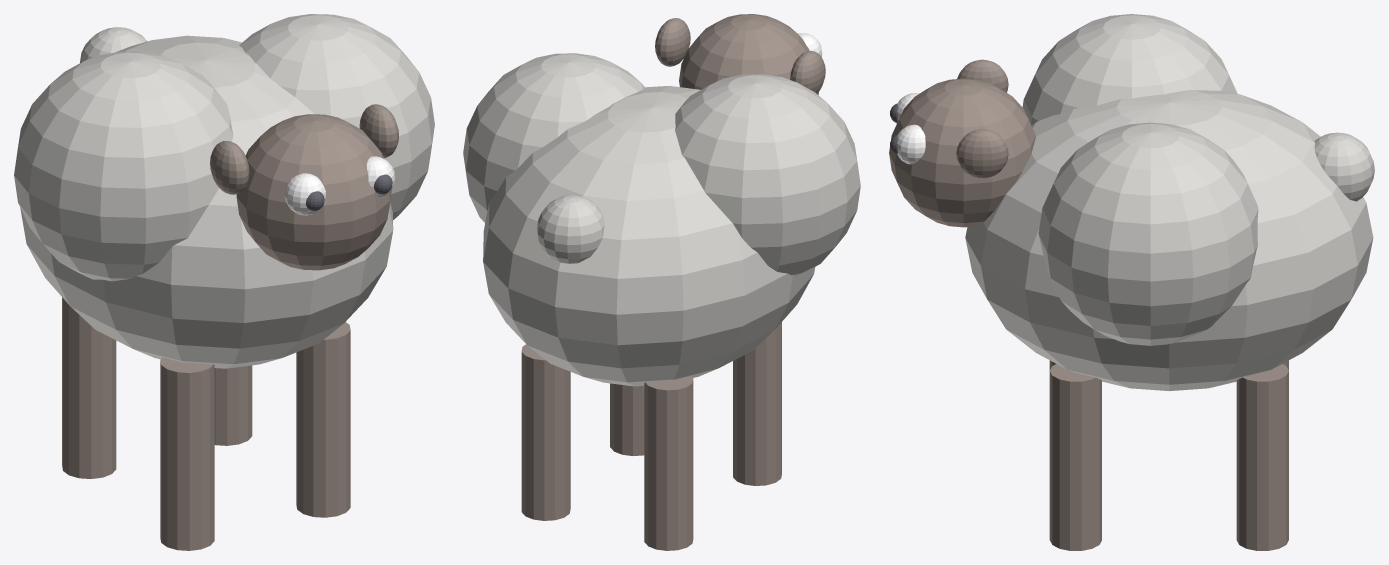
Rendered from sheep.glb.
The picture shows the model from 3 angles, left to right: view 1: azimuth 30°, elevation 25°; view 2: azimuth 150°, elevation 25°; view 3: azimuth 270°, elevation 25°; orthographic projection. The views are drawn at different scales.
Parts seen in each view (by area): view 1: SheepWool, SheepFace, SheepEyeWhite, SheepPupil; view 2: SheepWool, SheepFace; view 3: SheepWool, SheepFace, SheepEyeWhite.
Part boxes in pixels (box(x1,y1,x2,y2)): SheepWool: box(14, 14, 434, 368); SheepFace: box(62, 104, 398, 550); SheepEyeWhite: box(284, 156, 395, 215); SheepPupil: box(306, 174, 392, 210); SheepWool: box(463, 53, 860, 386); SheepFace: box(521, 14, 825, 550); SheepWool: box(965, 14, 1374, 391); SheepFace: box(889, 59, 1288, 550); SheepEyeWhite: box(897, 93, 925, 164).
Bounding box in the file's own units: 1.18 × 1.3 × 1.3.
